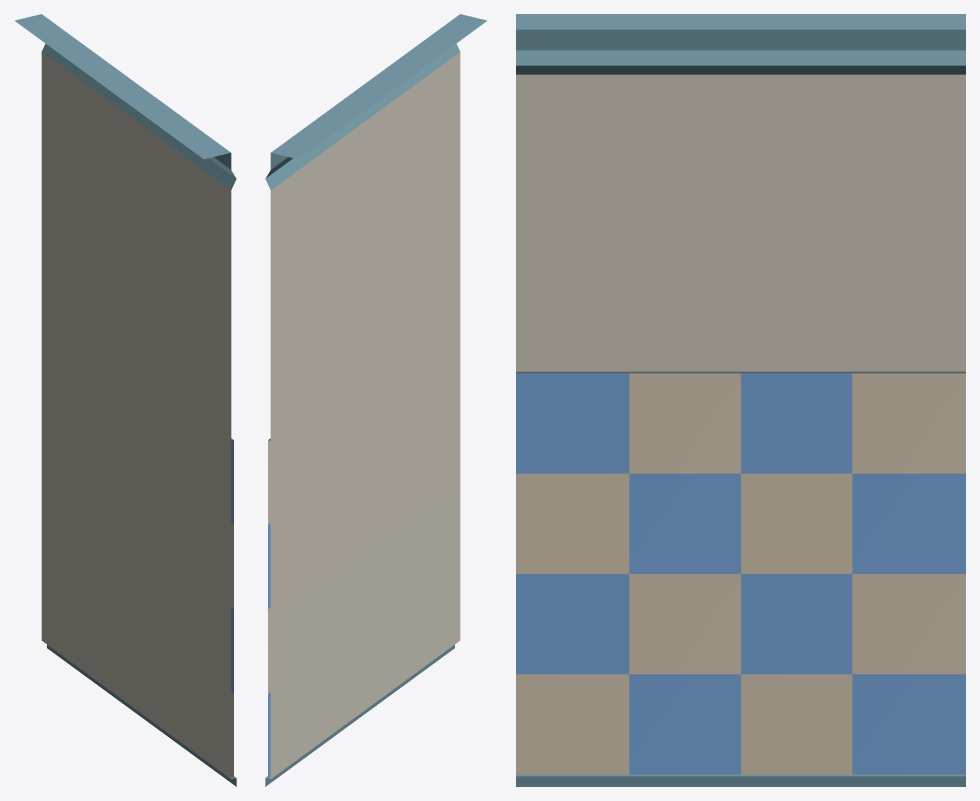
Rendered from g_t_TiledWall.fbx.
3 views of the same model, side by side, from view 1: azimuth 30°, elevation 25°; view 2: azimuth 150°, elevation 25°; view 3: azimuth 270°, elevation 25° (orthographic). The views are drawn at different scales.
Parts seen in each view (by area): view 1: g_t_TiledWall; view 2: g_t_TiledWall; view 3: g_t_TiledWall.
Boxes of the visible parts, x1,y1,x2,y2 form: g_t_TiledWall: [15, 14, 236, 786]; g_t_TiledWall: [265, 14, 486, 786]; g_t_TiledWall: [516, 14, 965, 786].
Bounding box in the file's own units: 9.99 × 185 × 100.
